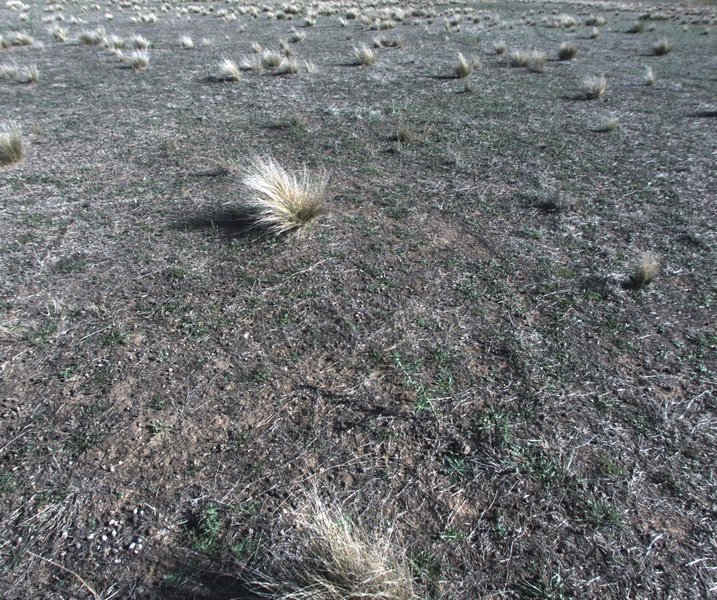st: (240, 498, 421, 600), (237, 151, 342, 228), (630, 240, 670, 280), (1, 120, 29, 166), (116, 49, 152, 73), (214, 60, 245, 85), (581, 76, 609, 102), (348, 45, 377, 67), (3, 29, 32, 49), (625, 20, 654, 40), (594, 116, 624, 135), (556, 42, 581, 64), (451, 49, 472, 75), (491, 39, 513, 63), (277, 57, 300, 78), (652, 41, 673, 63), (77, 31, 105, 46), (48, 21, 67, 43), (22, 60, 40, 83), (274, 35, 290, 60), (527, 51, 545, 72), (371, 36, 400, 48), (245, 37, 263, 54), (510, 51, 528, 67), (644, 63, 655, 89), (264, 50, 280, 67), (299, 16, 317, 30), (130, 34, 148, 47), (1, 61, 13, 80), (288, 26, 303, 41), (112, 32, 126, 48), (180, 34, 193, 50), (198, 34, 214, 46), (375, 16, 391, 27), (640, 12, 654, 24), (588, 23, 597, 41), (464, 80, 474, 95), (587, 12, 600, 23), (146, 11, 158, 22), (345, 8, 356, 17)
